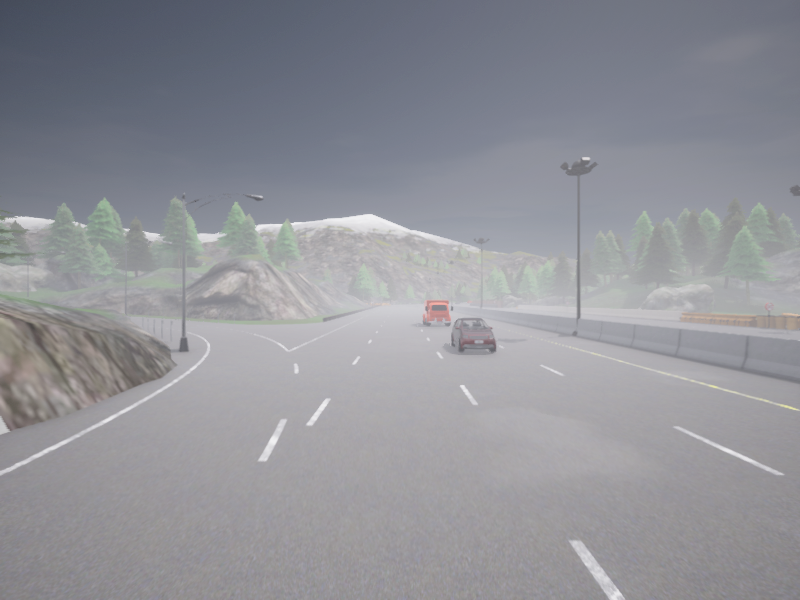vehicle: (451, 318, 495, 352), (422, 300, 452, 326), (467, 300, 471, 303), (456, 302, 460, 303)
